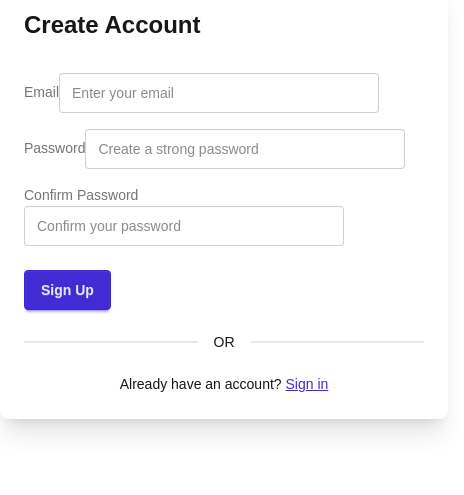
SignUpForm › Form Validation › shows error for password less than 8 characters
The image size is (464, 495).
Type "test@example.com" into the field with placeholder "Enter your email" at (219, 93), box [59,73,379,113]
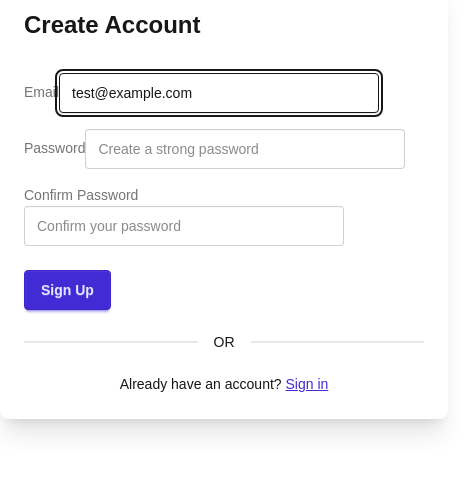
Type "1234567" into the password field with placeholder "Create a strong password" at (246, 149), box [86,129,406,169]
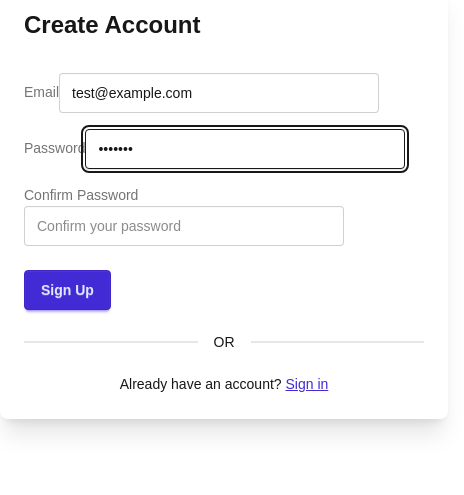
Click the button "Sign Up" at (67, 290), box [24,270,111,310]
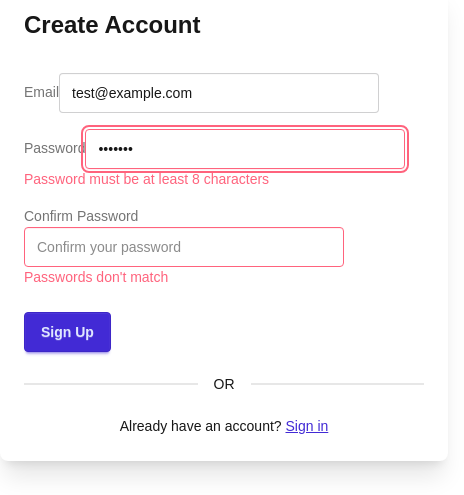
Check: the text "Password must be at least 8 characters" is shown, box [24,169,269,190]
